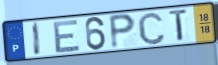6: (84, 16, 107, 52)
C: (136, 10, 167, 46)
E: (52, 18, 82, 55)
I: (31, 21, 42, 57)
P: (108, 13, 138, 51)
T: (168, 7, 190, 44)
